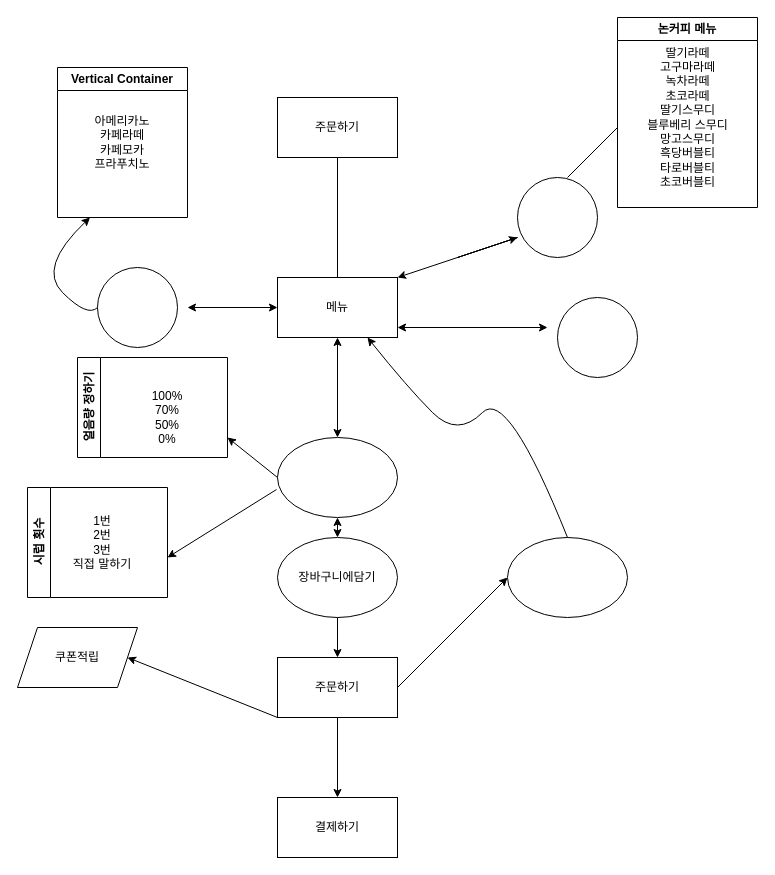
This 775x875 diagram has some shape labels left out. Each missing label, with the centre of its shape:
"논커피" goes at point (557, 217).
"디저트" goes at point (597, 337).
"얼음량 혹은 시럽량 정하기" goes at point (337, 477).
"취소하기" goes at point (567, 577).
"커피" goes at point (137, 307).
